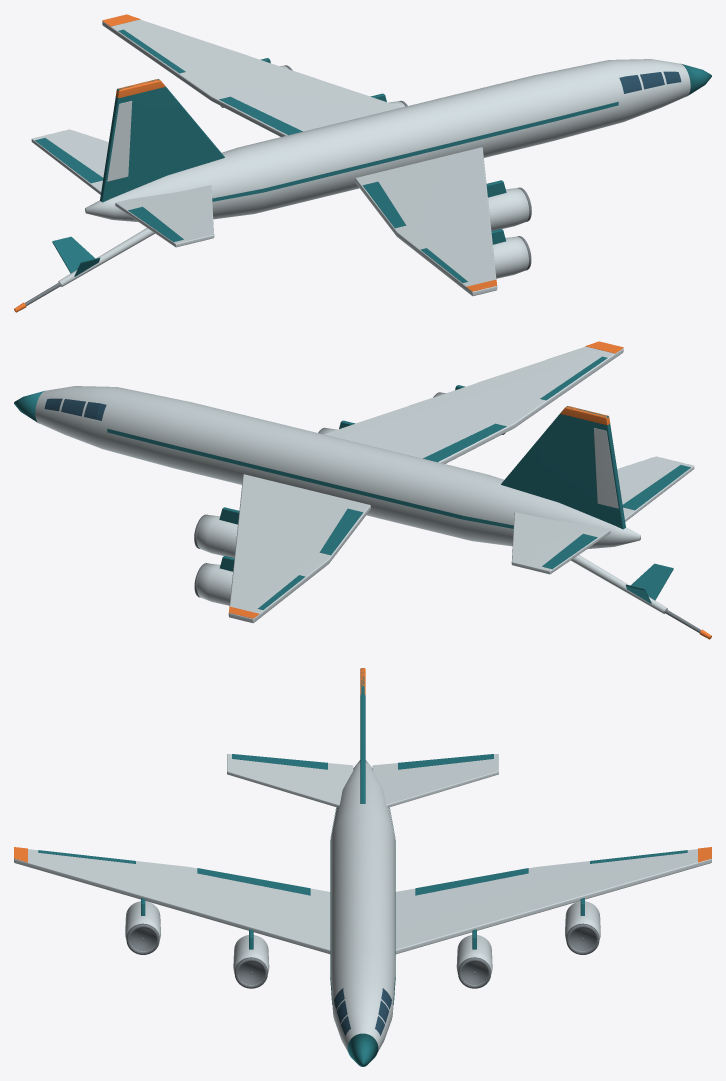
File: tanker.glb
The picture shows the model from 3 angles, top to bottom: view 1: azimuth 30°, elevation 25°; view 2: azimuth 150°, elevation 25°; view 3: azimuth 270°, elevation 25°; orthographic projection. The views are drawn at different scales.
Parts seen in each view (by area): view 1: Fuselage, Wing_right, Wing_left, Vertical stabilizer, Horizontal stabilizer_left, Horizontal stabilizer_right, Fuselage stripe_left, Engine nacelle_left_inner, Rudder marking, Engine nacelle_left_outer, Boom control fin_right, Refueling boom (+5 smaller); view 2: Fuselage, Wing_left, Wing_right, Vertical stabilizer, Horizontal stabilizer_right, Horizontal stabilizer_left, Fuselage stripe_right, Engine nacelle_right_inner, Rudder marking, Engine nacelle_right_outer, Boom control fin_left, Refueling boom (+5 smaller); view 3: Fuselage, Wing_left, Wing_right, Horizontal stabilizer_left, Horizontal stabilizer_right, Intake rim_left_inner, Intake rim_right_inner, Intake rim_left_outer, Intake rim_right_outer, Engine nacelle_left_inner, Engine nacelle_right_inner, Engine nacelle_right_outer (+7 smaller).
Boxes of the visible parts, box(x1,y1,x2,y2) form: Fuselage: box(85, 59, 690, 222); Wing_right: box(102, 19, 401, 136); Wing_left: box(355, 147, 497, 296); Vertical stabilizer: box(100, 79, 224, 202); Horizontal stabilizer_left: box(115, 185, 214, 247); Horizontal stabilizer_right: box(31, 129, 108, 194); Fuselage stripe_left: box(212, 101, 618, 201); Engine nacelle_left_inner: box(488, 188, 529, 230); Rudder marking: box(107, 101, 132, 181); Engine nacelle_left_outer: box(493, 236, 528, 278); Boom control fin_right: box(52, 236, 95, 273); Refueling boom: box(58, 228, 154, 286); Fuselage: box(35, 386, 640, 549); Wing_left: box(324, 346, 623, 463); Wing_right: box(228, 474, 370, 623); Vertical stabilizer: box(501, 406, 625, 529); Horizontal stabilizer_right: box(511, 512, 610, 574); Horizontal stabilizer_left: box(617, 456, 694, 521); Fuselage stripe_right: box(107, 428, 513, 528); Engine nacelle_right_inner: box(196, 515, 237, 557); Rudder marking: box(593, 428, 618, 508); Engine nacelle_right_outer: box(197, 563, 232, 605); Boom control fin_left: box(630, 563, 673, 600); Refueling boom: box(571, 555, 667, 613); Fuselage: box(330, 760, 395, 1051); Wing_left: box(14, 849, 330, 954); Wing_right: box(395, 849, 711, 954); Horizontal stabilizer_left: box(227, 754, 353, 807); Horizontal stabilizer_right: box(372, 754, 498, 807); Intake rim_left_inner: box(234, 957, 267, 988); Intake rim_right_inner: box(458, 957, 491, 988); Intake rim_left_outer: box(126, 923, 159, 954); Intake rim_right_outer: box(566, 923, 599, 954); Engine nacelle_left_inner: box(233, 935, 269, 985); Engine nacelle_right_inner: box(456, 935, 492, 985); Engine nacelle_right_outer: box(565, 901, 600, 951).
Size of the model in its own units: 43.45 by 11.79 by 40.
